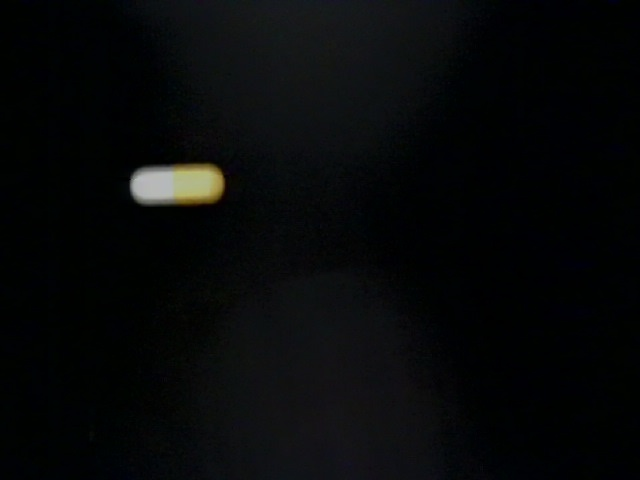YHLJ: (302, 251, 417, 313)
